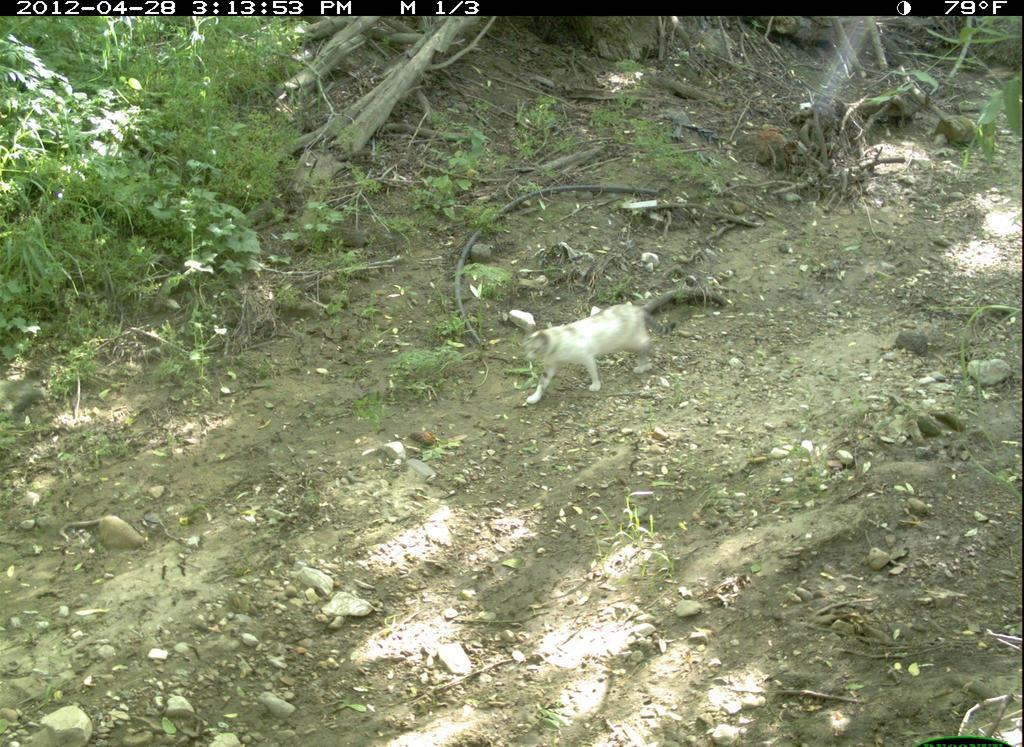cat: (510, 294, 684, 415)
